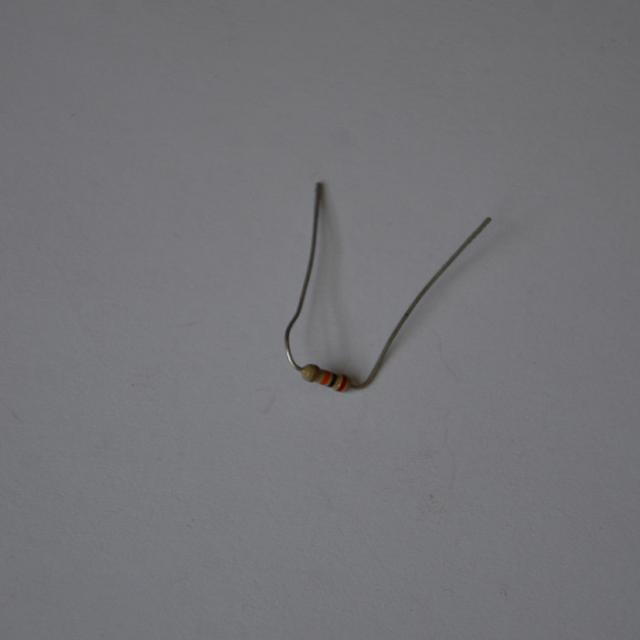black: (330, 374, 338, 387)
gold: (310, 368, 320, 383)
orange: (320, 371, 330, 384)
red: (338, 375, 347, 391)
resistor: (297, 358, 354, 400)
